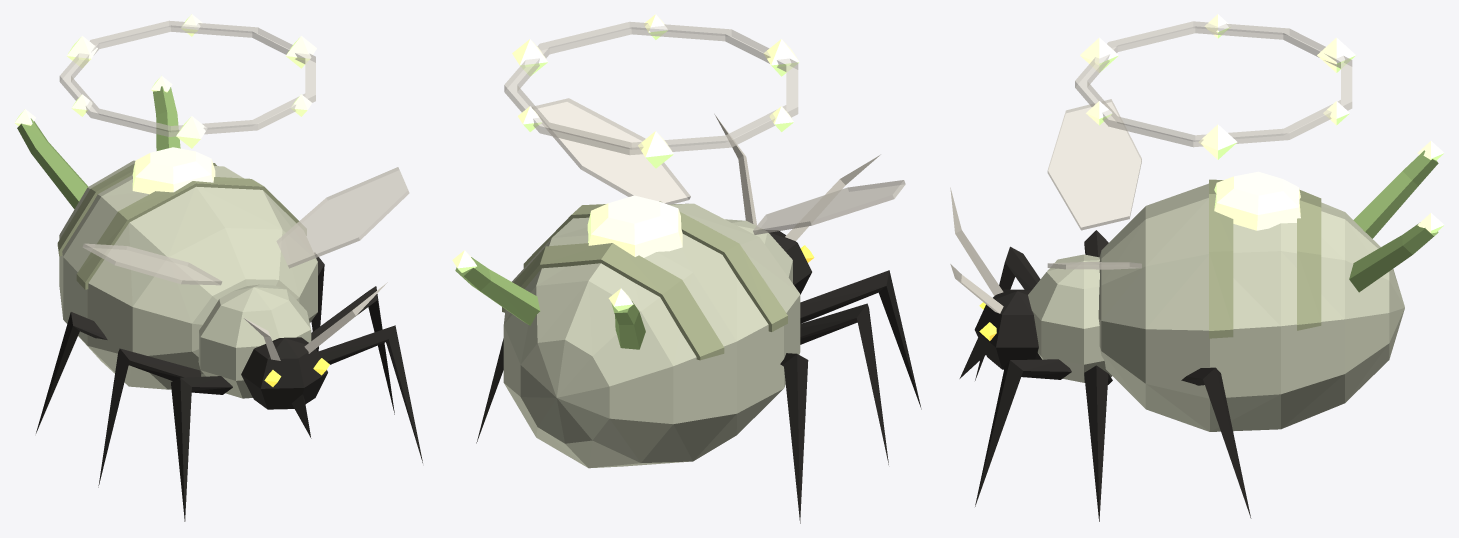
The model's file is Healer.fbx.
The picture shows the model from 3 angles, left to right: view 1: azimuth 30°, elevation 25°; view 2: azimuth 150°, elevation 25°; view 3: azimuth 270°, elevation 25°; orthographic projection. The views are drawn at different scales.
Parts seen in each view (by area): view 1: Body, HaloRing, WingL, LegsR, Head, Stripes, LegsL, Cornicles, Glow, WingR, Halo, Antennae; view 2: Body, Stripes, HaloRing, LegsR, WingL, Glow, WingR, Halo, Cornicles, Antennae, Head; view 3: Body, WingR, HaloRing, Stripes, LegsL, Glow, Cornicles, Head, Halo, LegsR, Antennae, WingL.
Part boxes in pixels (x1,y1,x2,y2): Body: (59,160,317,398); HaloRing: (59,20,315,136); WingL: (276,167,409,268); LegsR: (36,312,232,521); Head: (241,337,327,438); Stripes: (57,163,306,289); LegsL: (311,253,422,462); Cornicles: (17,86,180,208); Glow: (14,75,215,194); WingR: (82,243,222,285); Halo: (67,14,316,148); Antennae: (244,282,387,360); Body: (503,203,800,468); Stripes: (502,201,787,360); HaloRing: (504,21,798,155); LegsR: (780,270,921,523); WingL: (532,98,690,204); Glow: (452,195,682,311); WingR: (753,180,905,234); Halo: (512,14,799,168); Cornicles: (455,257,645,349); Antennae: (714,114,880,241); Head: (766,230,811,294); Body: (1028,183,1404,431); WingR: (1047,99,1141,230); HaloRing: (1075,21,1352,147); Stripes: (1209,179,1321,338); LegsL: (975,359,1251,521); Glow: (1214,141,1444,233); Cornicles: (1349,150,1438,292); Head: (959,289,1041,378); Halo: (1080,14,1356,159); LegsR: (975,230,1108,380); Antennae: (950,187,1003,313); WingL: (1047,262,1141,269).
Bounding box in the file's own units: 2.61 × 2.75 × 3.25.
